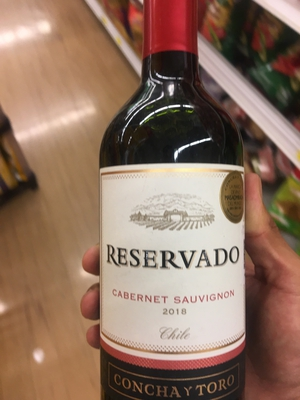reservado cabernet sauvignon: (94, 12, 256, 400)
